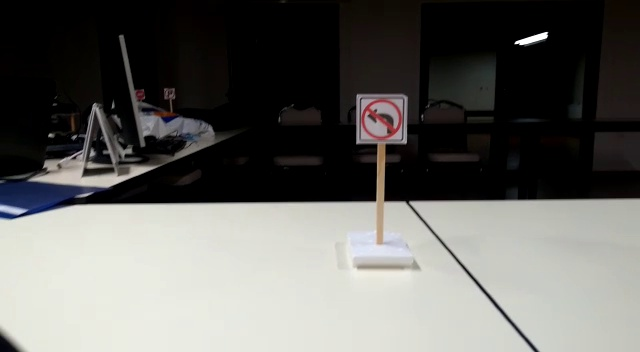sola_donulmez: (354, 99, 412, 146)
